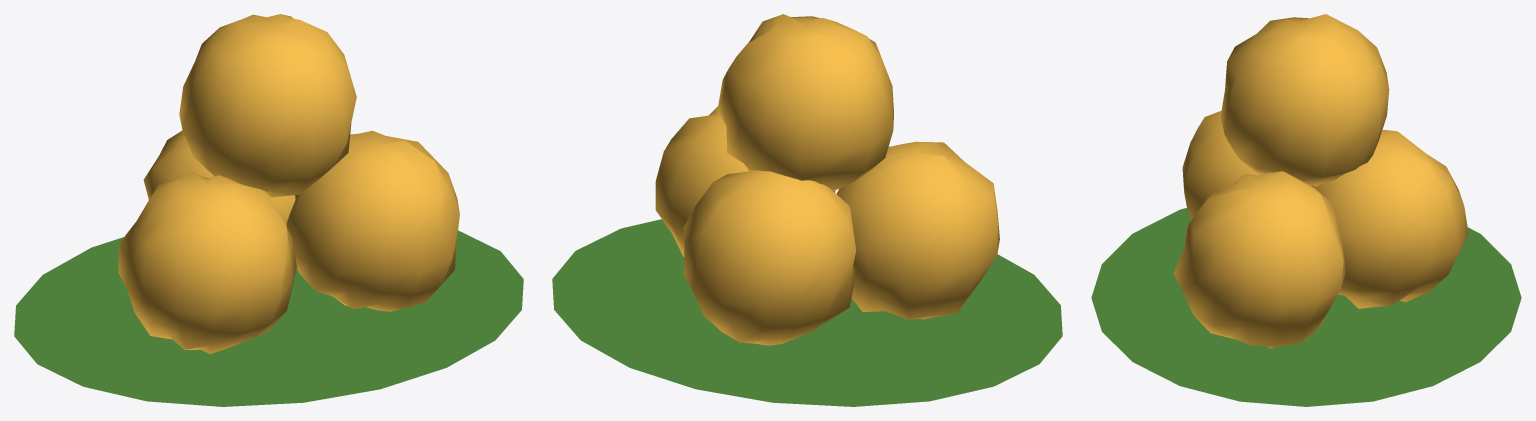
Rendered from laddoo.glb.
The picture shows the model from 3 angles, left to right: view 1: azimuth 30°, elevation 25°; view 2: azimuth 150°, elevation 25°; view 3: azimuth 270°, elevation 25°; orthographic projection. The views are drawn at different scales.
Parts seen in each view (by area): view 1: laddoo; view 2: laddoo; view 3: laddoo.
Boxes of the visible parts, box(x1,y1,x2,y2) form: laddoo: box(14, 14, 523, 406); laddoo: box(552, 14, 1062, 406); laddoo: box(1091, 14, 1521, 406).
Bounding box in the file's own units: 0.144 × 0.086 × 0.12.
